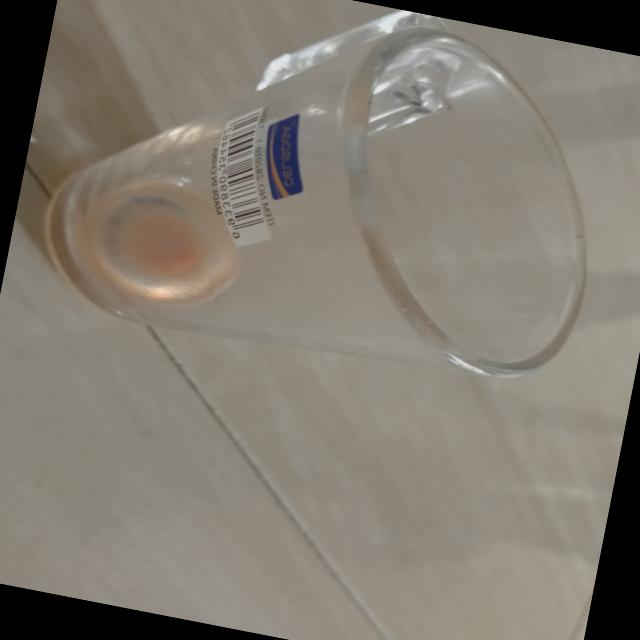glass-VX4N: (31, 0, 631, 412)
